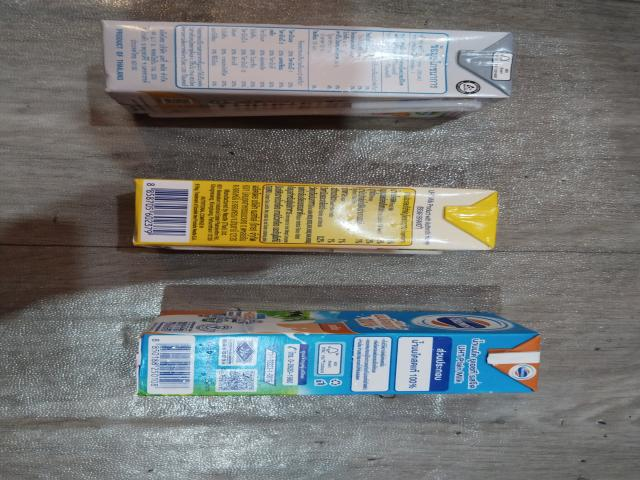drink_box: (90, 15, 527, 120), (117, 306, 557, 400), (113, 173, 505, 260)
